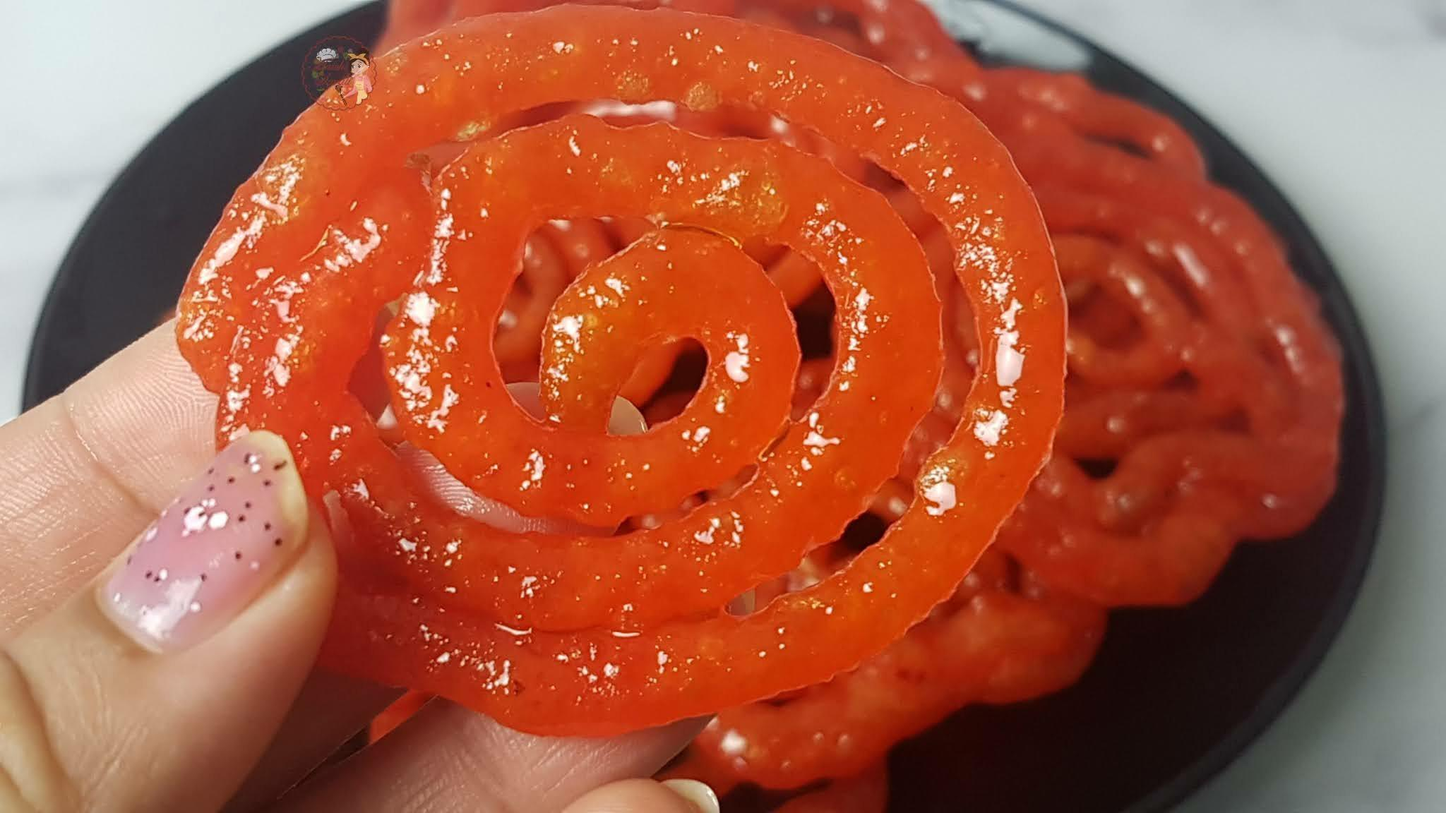Jalebi: (368, 0, 1346, 813), (174, 6, 1069, 738)
